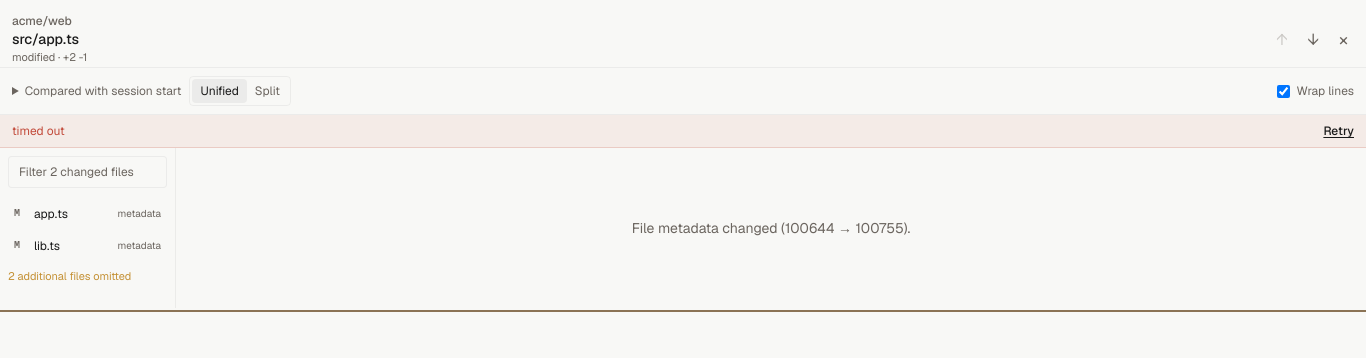
Test: SessionChangesPanel › reports an authoritative retry failure from the explicit retry endpoint
This screenshot has width=1366, height=358.
Click the button "Retry". click: click(1339, 131)
box: [1323,123,1354,139]
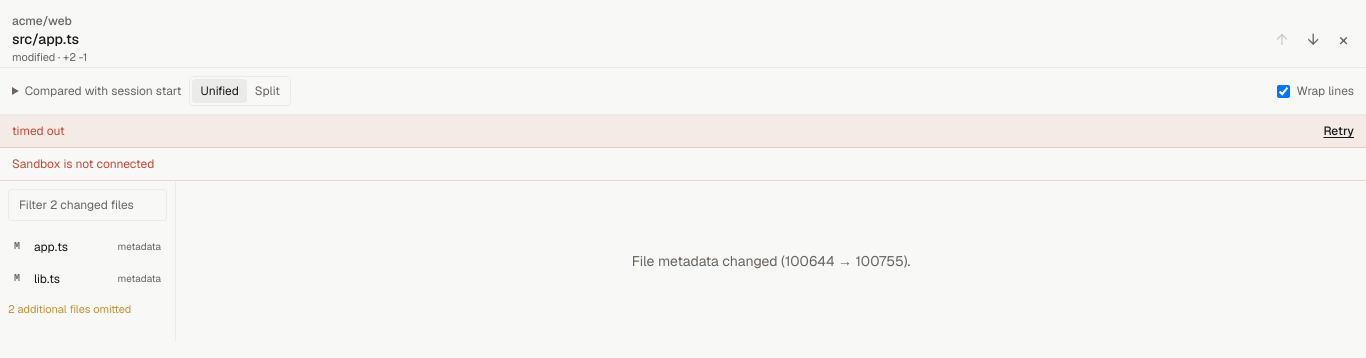
Expected: the text "Sandbox is not connected" is shown, [0,148,1365,181]
